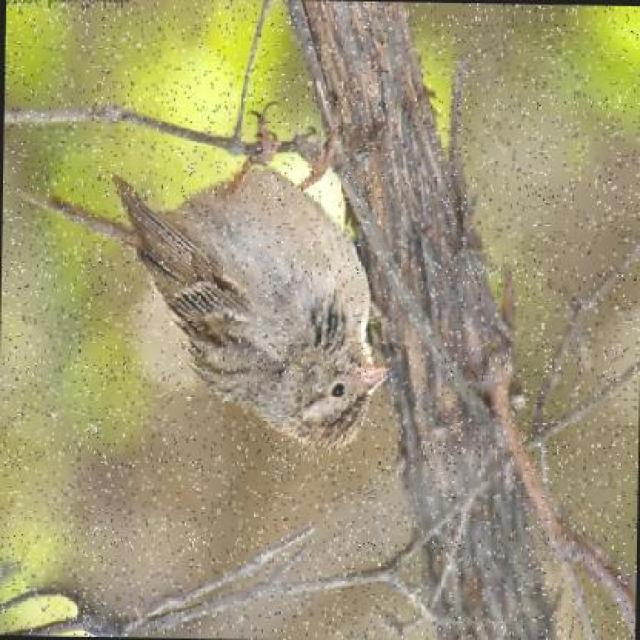Bird: (87, 124, 398, 450)
